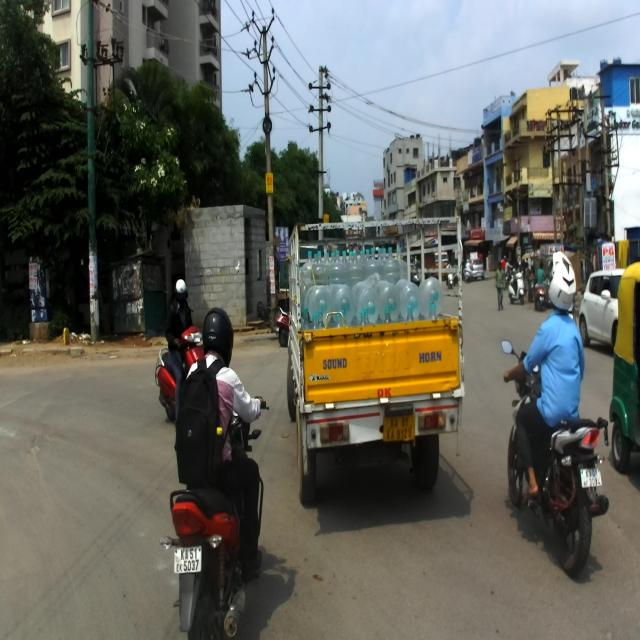Car_Maruti-Suzuki: (578, 267, 626, 347)
Car_TATA: (462, 257, 484, 281)
autorickshaw: (609, 260, 639, 473)
motorcycle_Honda: (158, 395, 270, 639)
motorcycle_TVS: (501, 338, 609, 576)
scooter: (154, 324, 205, 421), (507, 268, 525, 304)
truck: (286, 208, 466, 505)
